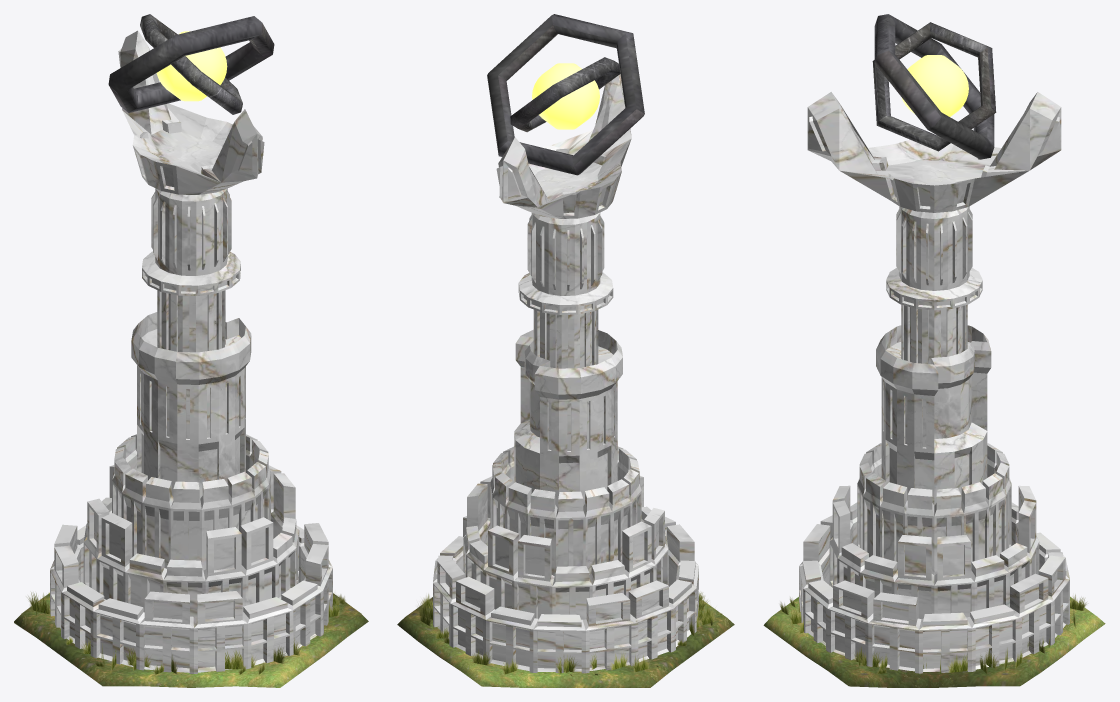
Rendered from hyperstructure.glb.
3 views of the same model, side by side, from view 1: azimuth 30°, elevation 25°; view 2: azimuth 150°, elevation 25°; view 3: azimuth 270°, elevation 25° (orthographic). The views are drawn at different scales.
Parts seen in each view (by area): view 1: hyperstructure; view 2: hyperstructure; view 3: hyperstructure.
Boxes of the visible parts, x1,y1,x2,y2 form: hyperstructure: (14, 14, 368, 687); hyperstructure: (397, 14, 734, 687); hyperstructure: (763, 14, 1105, 687).
Size of the model in its own units: 1.73 by 3.82 by 2.
4 materials, 3 textured.
